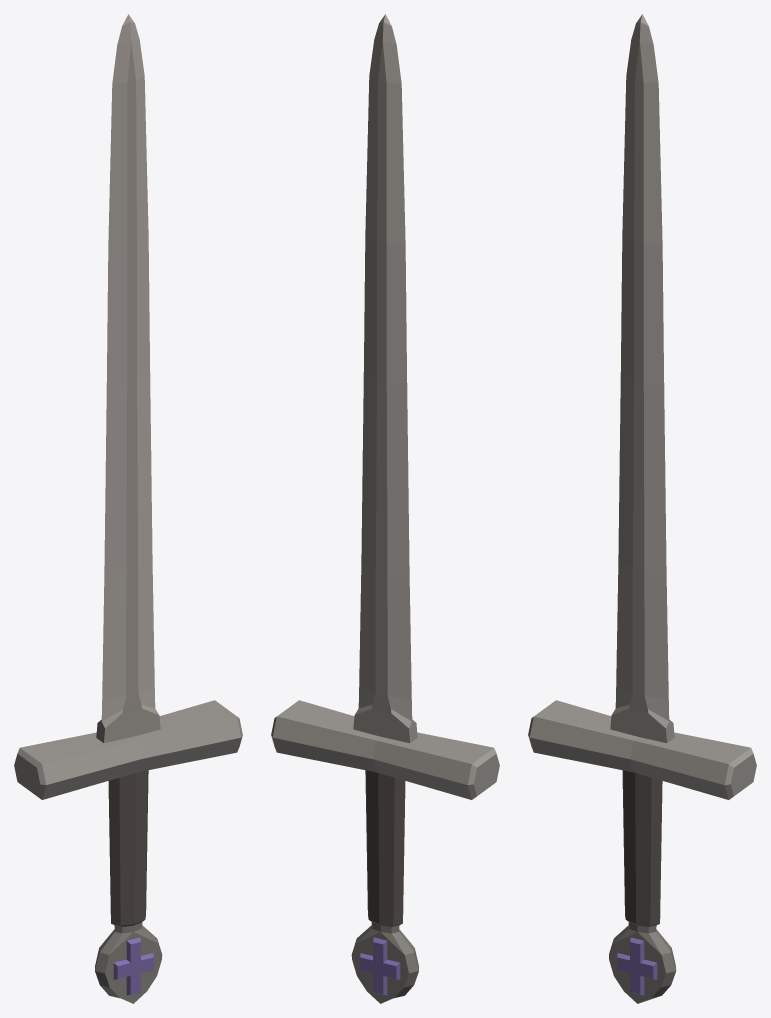
File: SM_pwe_medieval_sword_04.fbx
3 views of the same model, side by side, from view 1: azimuth 30°, elevation 25°; view 2: azimuth 150°, elevation 25°; view 3: azimuth 330°, elevation 25° (orthographic).
Visible parts, largest first — view 1: SM_pwe_medieval_sword_04; view 2: SM_pwe_medieval_sword_04; view 3: SM_pwe_medieval_sword_04.
Part boxes in pixels (box(x1,y1,x2,y2)): SM_pwe_medieval_sword_04: box(14, 14, 242, 1003); SM_pwe_medieval_sword_04: box(271, 14, 499, 1003); SM_pwe_medieval_sword_04: box(528, 14, 756, 1003).
Bounding box in the file's own units: 23.15 × 108 × 6.07.
